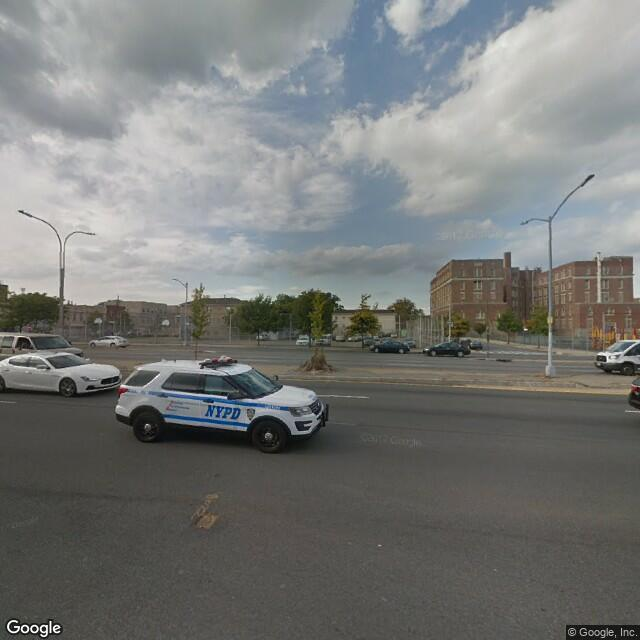litter: (376, 543, 381, 546)
